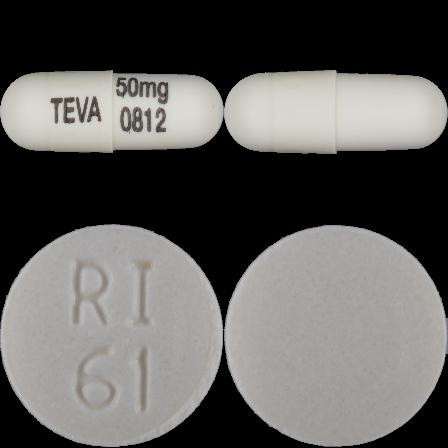63187-759: (0, 0, 224, 224)
